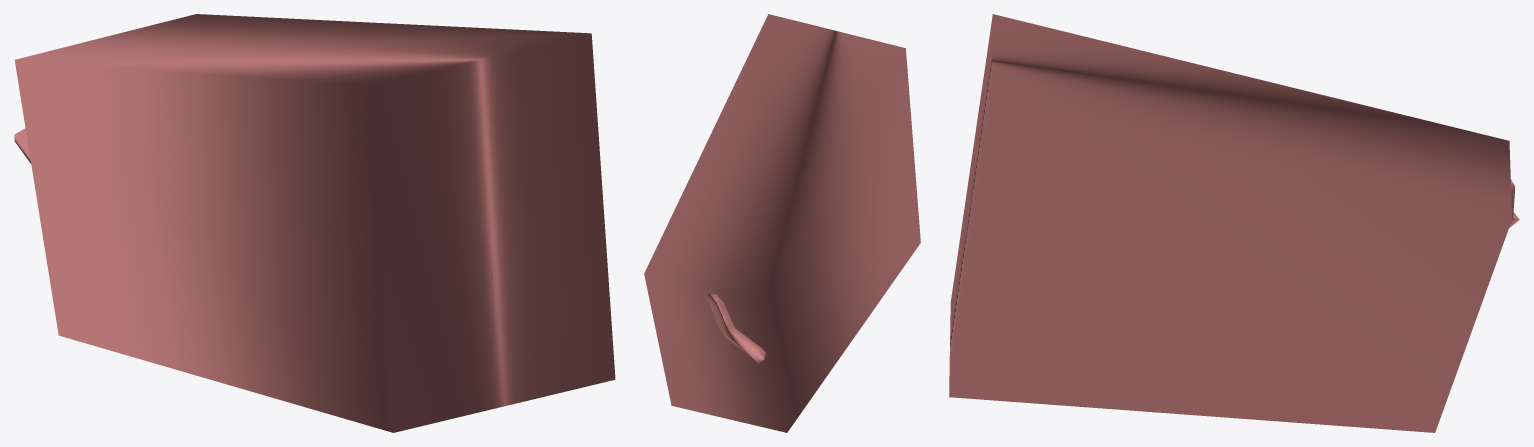
Rendered from pinger_plate_back_right_scaled.dae.
The picture shows the model from 3 angles, left to right: view 1: azimuth 30°, elevation 25°; view 2: azimuth 150°, elevation 25°; view 3: azimuth 270°, elevation 25°; orthographic projection. The views are drawn at different scales.
Parts seen in each view (by area): view 1: pinger_plate_back_right_scaled; view 2: pinger_plate_back_right_scaled; view 3: pinger_plate_back_right_scaled.
Boxes of the visible parts, bbox=[...] form: pinger_plate_back_right_scaled: bbox=[14, 14, 615, 432]; pinger_plate_back_right_scaled: bbox=[644, 14, 920, 432]; pinger_plate_back_right_scaled: bbox=[949, 14, 1519, 432].
Bounding box in the file's own units: 0.7158 × 1.43 × 1.01.
